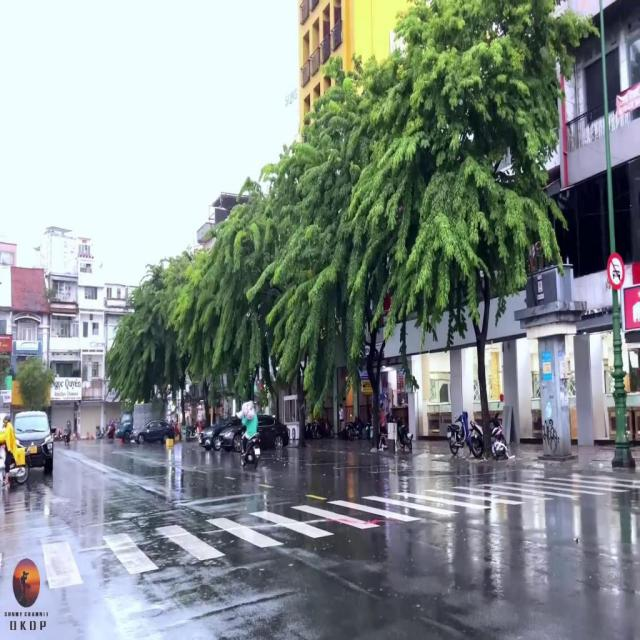cam_o_to: (608, 253, 626, 290)
